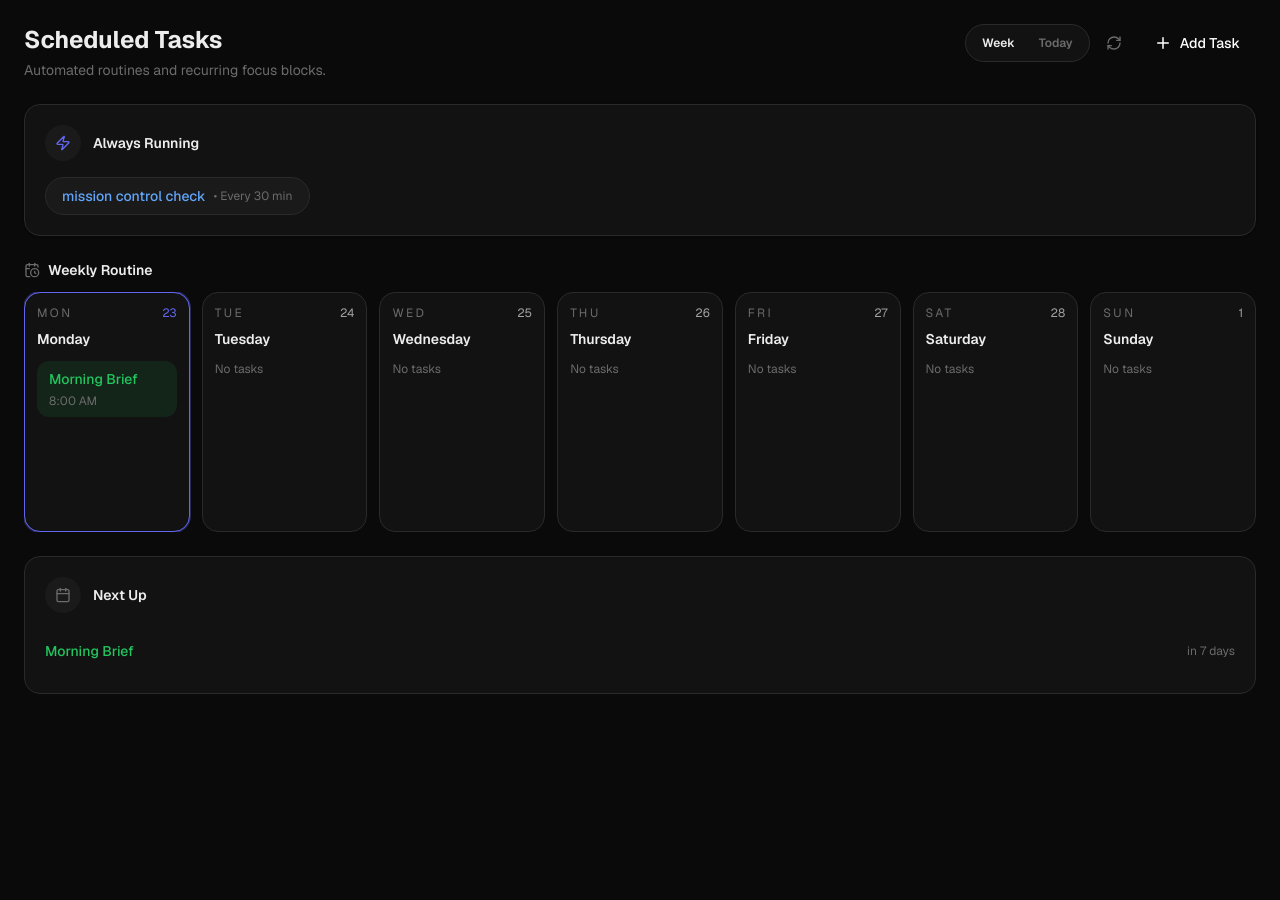
it: ScheduledPage › refreshes scheduled data when clicking refresh
Check: the text "Morning Brief" below "Monday" is shown, box top-left (49, 370), bottom-right (138, 388)
Click the button named "refresh scheduled data" at (1114, 43), box top-left (1098, 27), bottom-right (1130, 59)
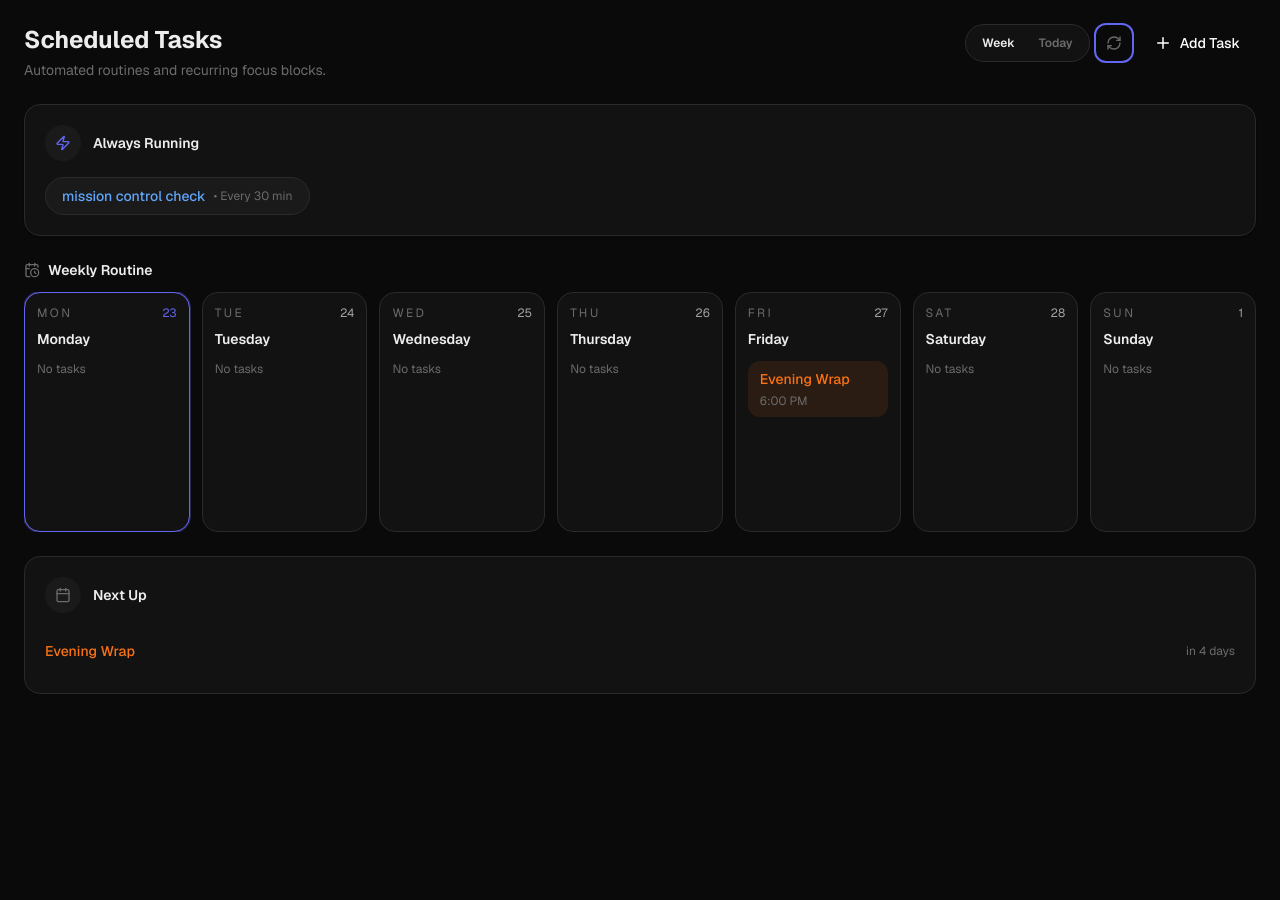
Check: the text "Evening Wrap" below "Friday" is shown, box top-left (760, 370), bottom-right (850, 388)
Check: no buttons "Morning Brief" are shown
